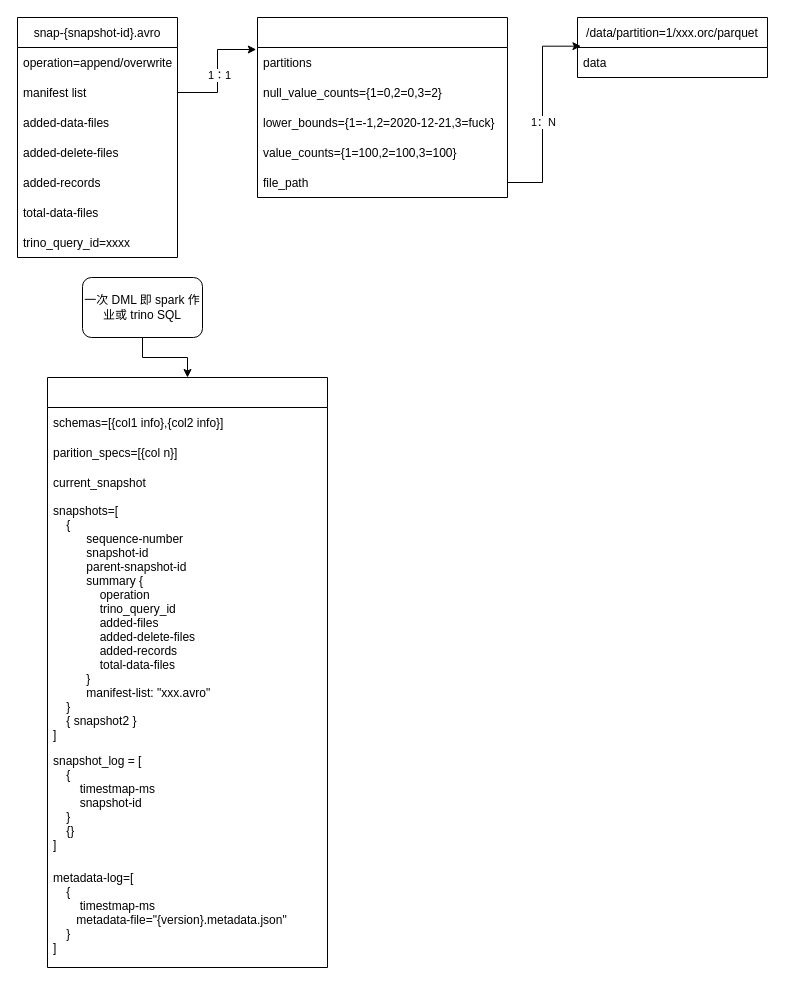
Some shapes in this 785 by 985 pixel diagram are drawn without their labels. The box of each missing label's shape, as (x1, y1, x2, y2) in pixels:
v1.metadata.json: (46, 376, 328, 968)
{manifest-id}-m0.avro: (256, 16, 508, 198)
